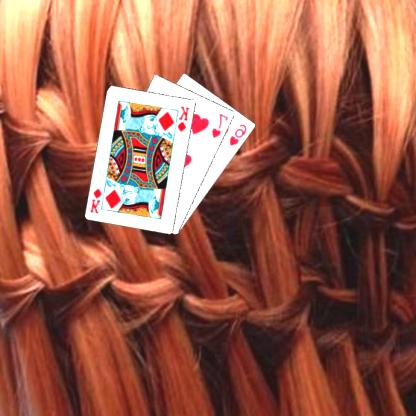6H: (229, 121, 250, 147)
7H: (211, 110, 232, 140)
KD: (177, 103, 193, 133), (89, 186, 105, 214)
